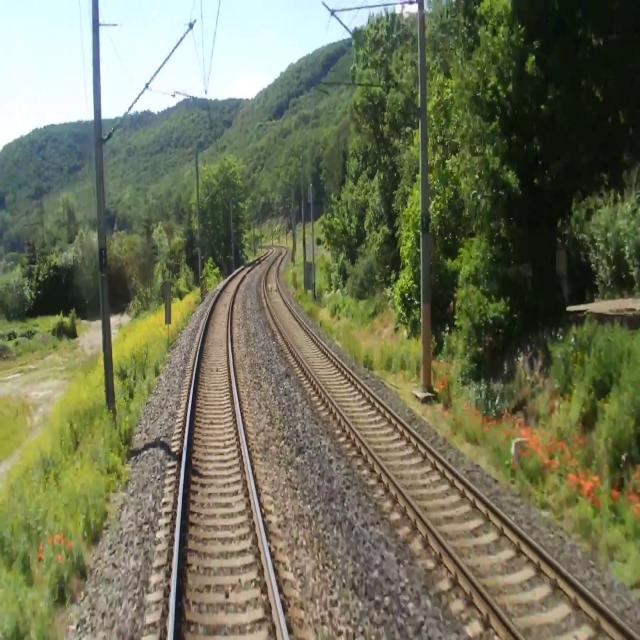rail-track: (265, 247, 620, 639), (173, 248, 284, 639)
